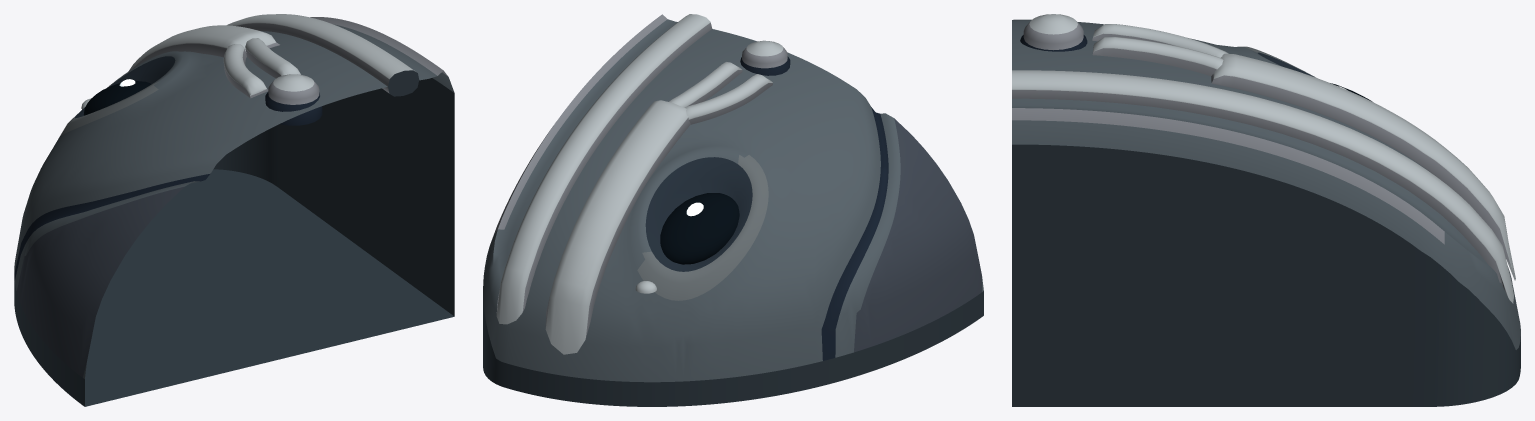
Rendered from fire_housing_l_top.glb.
3 renders of one model, left to right at view 1: azimuth 30°, elevation 25°; view 2: azimuth 150°, elevation 25°; view 3: azimuth 270°, elevation 25°, orthographic. The views are drawn at different scales.
Visible parts, largest first — view 1: shell_wall.001, shell.001, rib_outer.001, rib_inner.001, knob.001, prong_left.001, prong_right.001, eye.001; view 2: shell.001, shell_wall.001, rib_inner.001, rib_outer.001, eye.001, prong_left.001, knob.001, prong_right.001; view 3: shell_wall.001, shell.001, rib_outer.001, rib_inner.001, prong_right.001, knob.001, prong_left.001.
Part boxes in pixels (x1,y1,x2,y2): shell_wall.001: (14,78,454,406); shell.001: (14,17,454,378); rib_outer.001: (227,14,419,96); rib_inner.001: (128,25,279,71); knob.001: (265,74,322,125); prong_left.001: (223,44,268,98); prong_right.001: (245,38,300,78); eye.001: (83,81,151,115); shell.001: (483,14,983,382); shell_wall.001: (483,291,983,406); rib_inner.001: (545,100,690,354); rib_outer.001: (496,14,712,324); eye.001: (660,193,739,264); prong_left.001: (685,74,772,124); knob.001: (740,40,790,75); prong_right.001: (669,62,742,107); shell_wall.001: (1012,144,1520,406); shell.001: (1012,19,1520,349); rib_outer.001: (1012,70,1513,303); rib_inner.001: (1211,53,1515,280); prong_right.001: (1092,36,1223,76); knob.001: (1020,14,1087,51); prong_left.001: (1092,24,1228,57).
Size of the model in its own units: 21.7 by 14.64 by 22.
